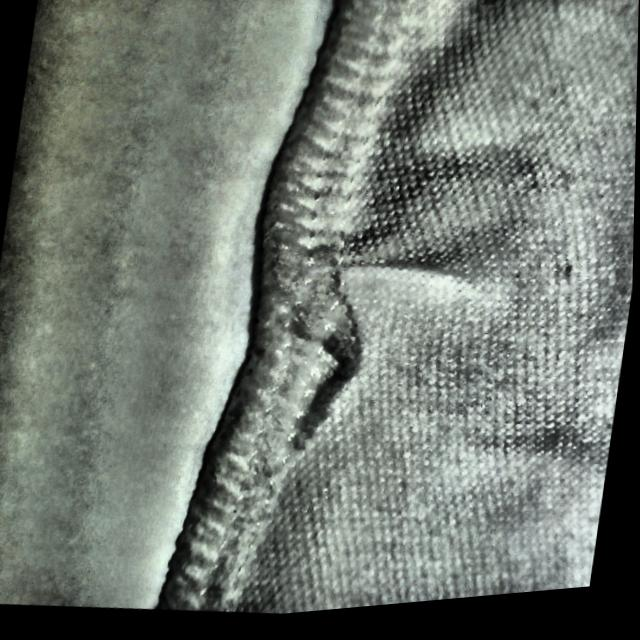seam: (232, 201, 470, 448)
